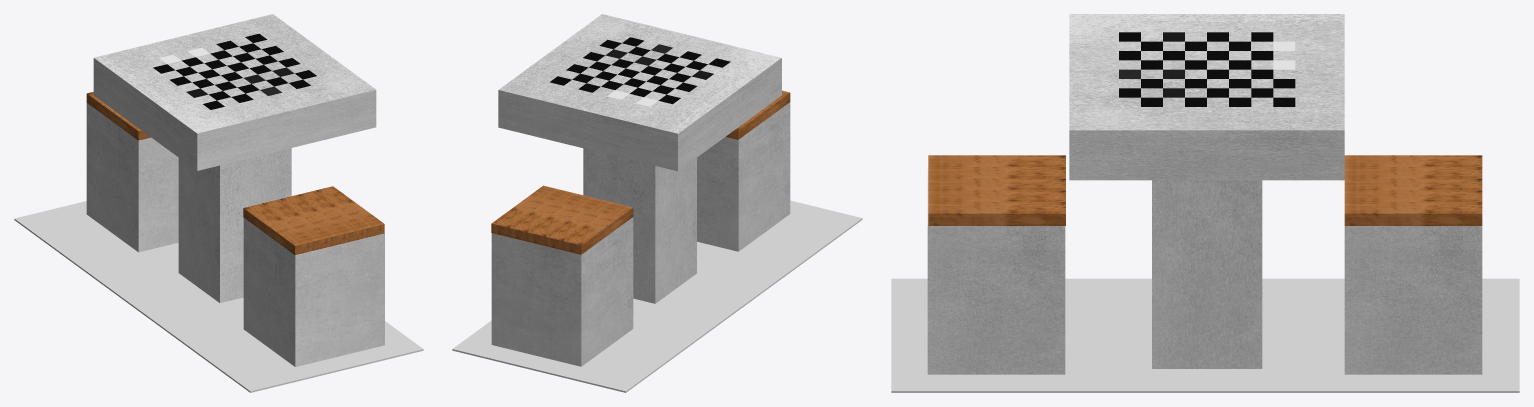
The model's file is шахматная доска1.glb.
The picture shows the model from 3 angles, left to right: view 1: azimuth 30°, elevation 25°; view 2: azimuth 150°, elevation 25°; view 3: azimuth 270°, elevation 25°; orthographic projection. The views are drawn at different scales.
Visible parts, largest first — view 1: Куб, Куб.013, Куб.001, Cube, Куб.002, Куб.008, Куб.010, Куб.012, Куб.009, Куб.011, Куб.003; view 2: Куб, Куб.013, Куб.002, Cube, Куб.001, Куб.003, Куб.005, Куб.007, Куб.004, Куб.006, Куб.008; view 3: Куб, Куб.013, Cube, Куб.001, Куб.002, Куб.007, Куб.012, Куб.005, Куб.010, Куб.003, Куб.004, Куб.006 (+3 smaller).
Boxes of the visible parts, <box> form: Куб: <box>93,14,376,170</box>; Куб.013: <box>14,201,423,392</box>; Куб.001: <box>243,218,384,366</box>; Cube: <box>178,148,291,302</box>; Куб.002: <box>86,103,178,252</box>; Куб.008: <box>243,203,312,255</box>; Куб.010: <box>279,195,348,246</box>; Куб.012: <box>315,186,384,237</box>; Куб.009: <box>262,199,330,250</box>; Куб.011: <box>297,190,366,241</box>; Куб.003: <box>86,91,150,140</box>; Куб: <box>498,14,781,171</box>; Куб.013: <box>452,200,862,392</box>; Куб.002: <box>491,217,633,366</box>; Cube: <box>583,148,696,303</box>; Куб.001: <box>697,102,790,251</box>; Куб.003: <box>563,203,633,254</box>; Куб.005: <box>527,194,596,245</box>; Куб.007: <box>491,185,560,236</box>; Куб.004: <box>545,198,614,250</box>; Куб.006: <box>509,190,578,241</box>; Куб.008: <box>726,90,790,139</box>; Куб: <box>1069,14,1344,180</box>; Куб.013: <box>891,278,1519,392</box>; Cube: <box>1152,180,1262,368</box>; Куб.001: <box>927,168,1065,374</box>; Куб.002: <box>1344,226,1482,374</box>; Куб.007: <box>1344,202,1482,225</box>; Куб.012: <box>928,202,1065,225</box>; Куб.005: <box>1344,178,1482,190</box>; Куб.010: <box>928,178,1065,190</box>; Куб.003: <box>1344,155,1482,166</box>; Куб.004: <box>1344,167,1482,178</box>; Куб.006: <box>1344,190,1482,201</box>.
Bounding box in the file's own units: 1.29 × 1.34 × 2.74.
46 materials, 14 textured.
